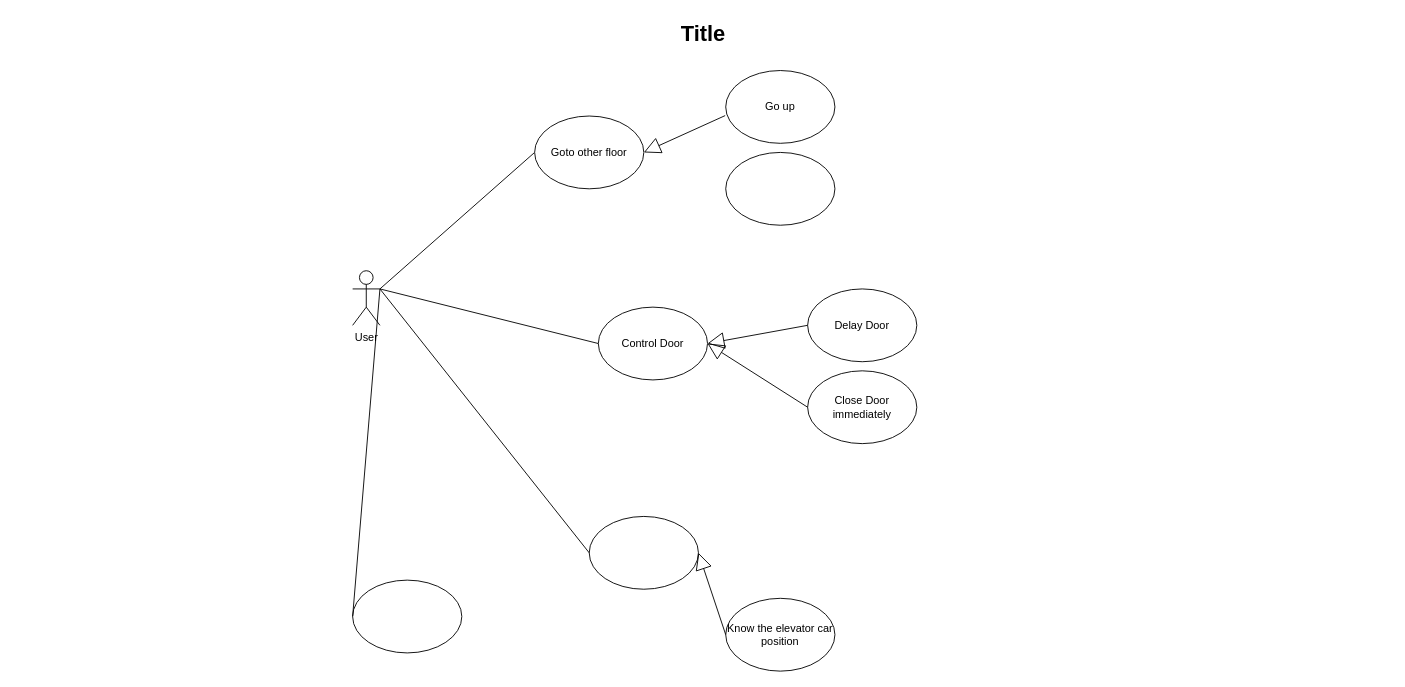
Some shapes in this 1405 by 687 pixel diagram are drawn without their labels. Here are the shapes that lost their labels. From the top down, the centre of each, then its label:
pixel 780 188: Go down
pixel 643 552: Have Information
pixel 407 616: Call Help
